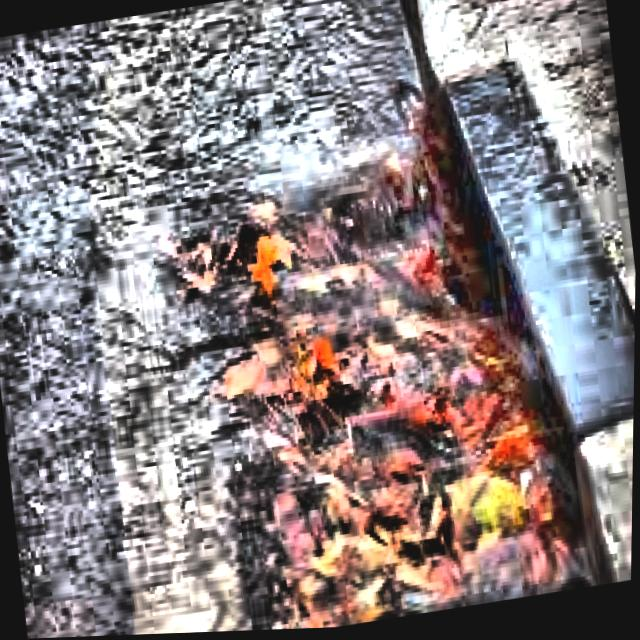clogged_drains: (177, 159, 590, 632)
